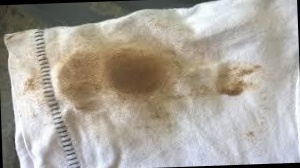earth: (61, 48, 170, 104), (216, 63, 247, 95)
